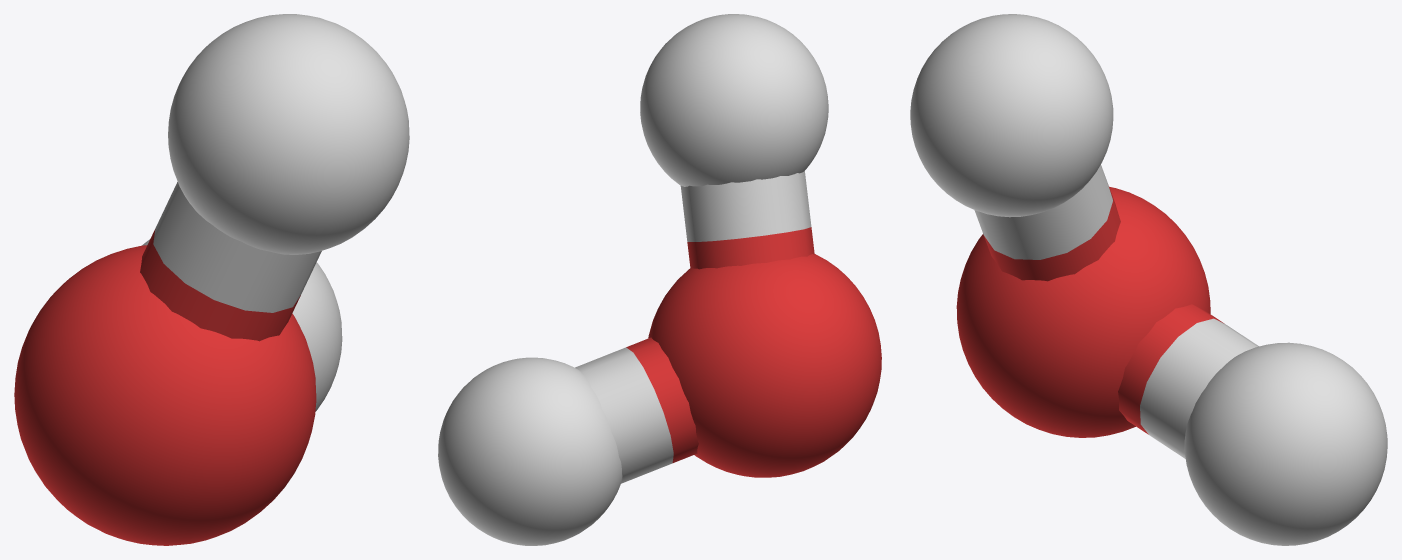
The model's file is 962-bas-color-print_NIH3D.glb.
The picture shows the model from 3 angles, left to right: view 1: azimuth 30°, elevation 25°; view 2: azimuth 150°, elevation 25°; view 3: azimuth 270°, elevation 25°; orthographic projection. The views are drawn at different scales.
Parts seen in each view (by area): view 1: atoms, bonds; view 2: atoms, bonds; view 3: atoms, bonds.
Boxes of the visible parts, x1,y1,x2,y2 form: atoms: [14, 14, 409, 545]; bonds: [140, 182, 321, 341]; atoms: [438, 14, 881, 545]; bonds: [575, 171, 814, 483]; atoms: [910, 14, 1387, 545]; bonds: [974, 164, 1258, 458].
Bounding box in the file's own units: 1.42 × 1.85 × 1.69.
